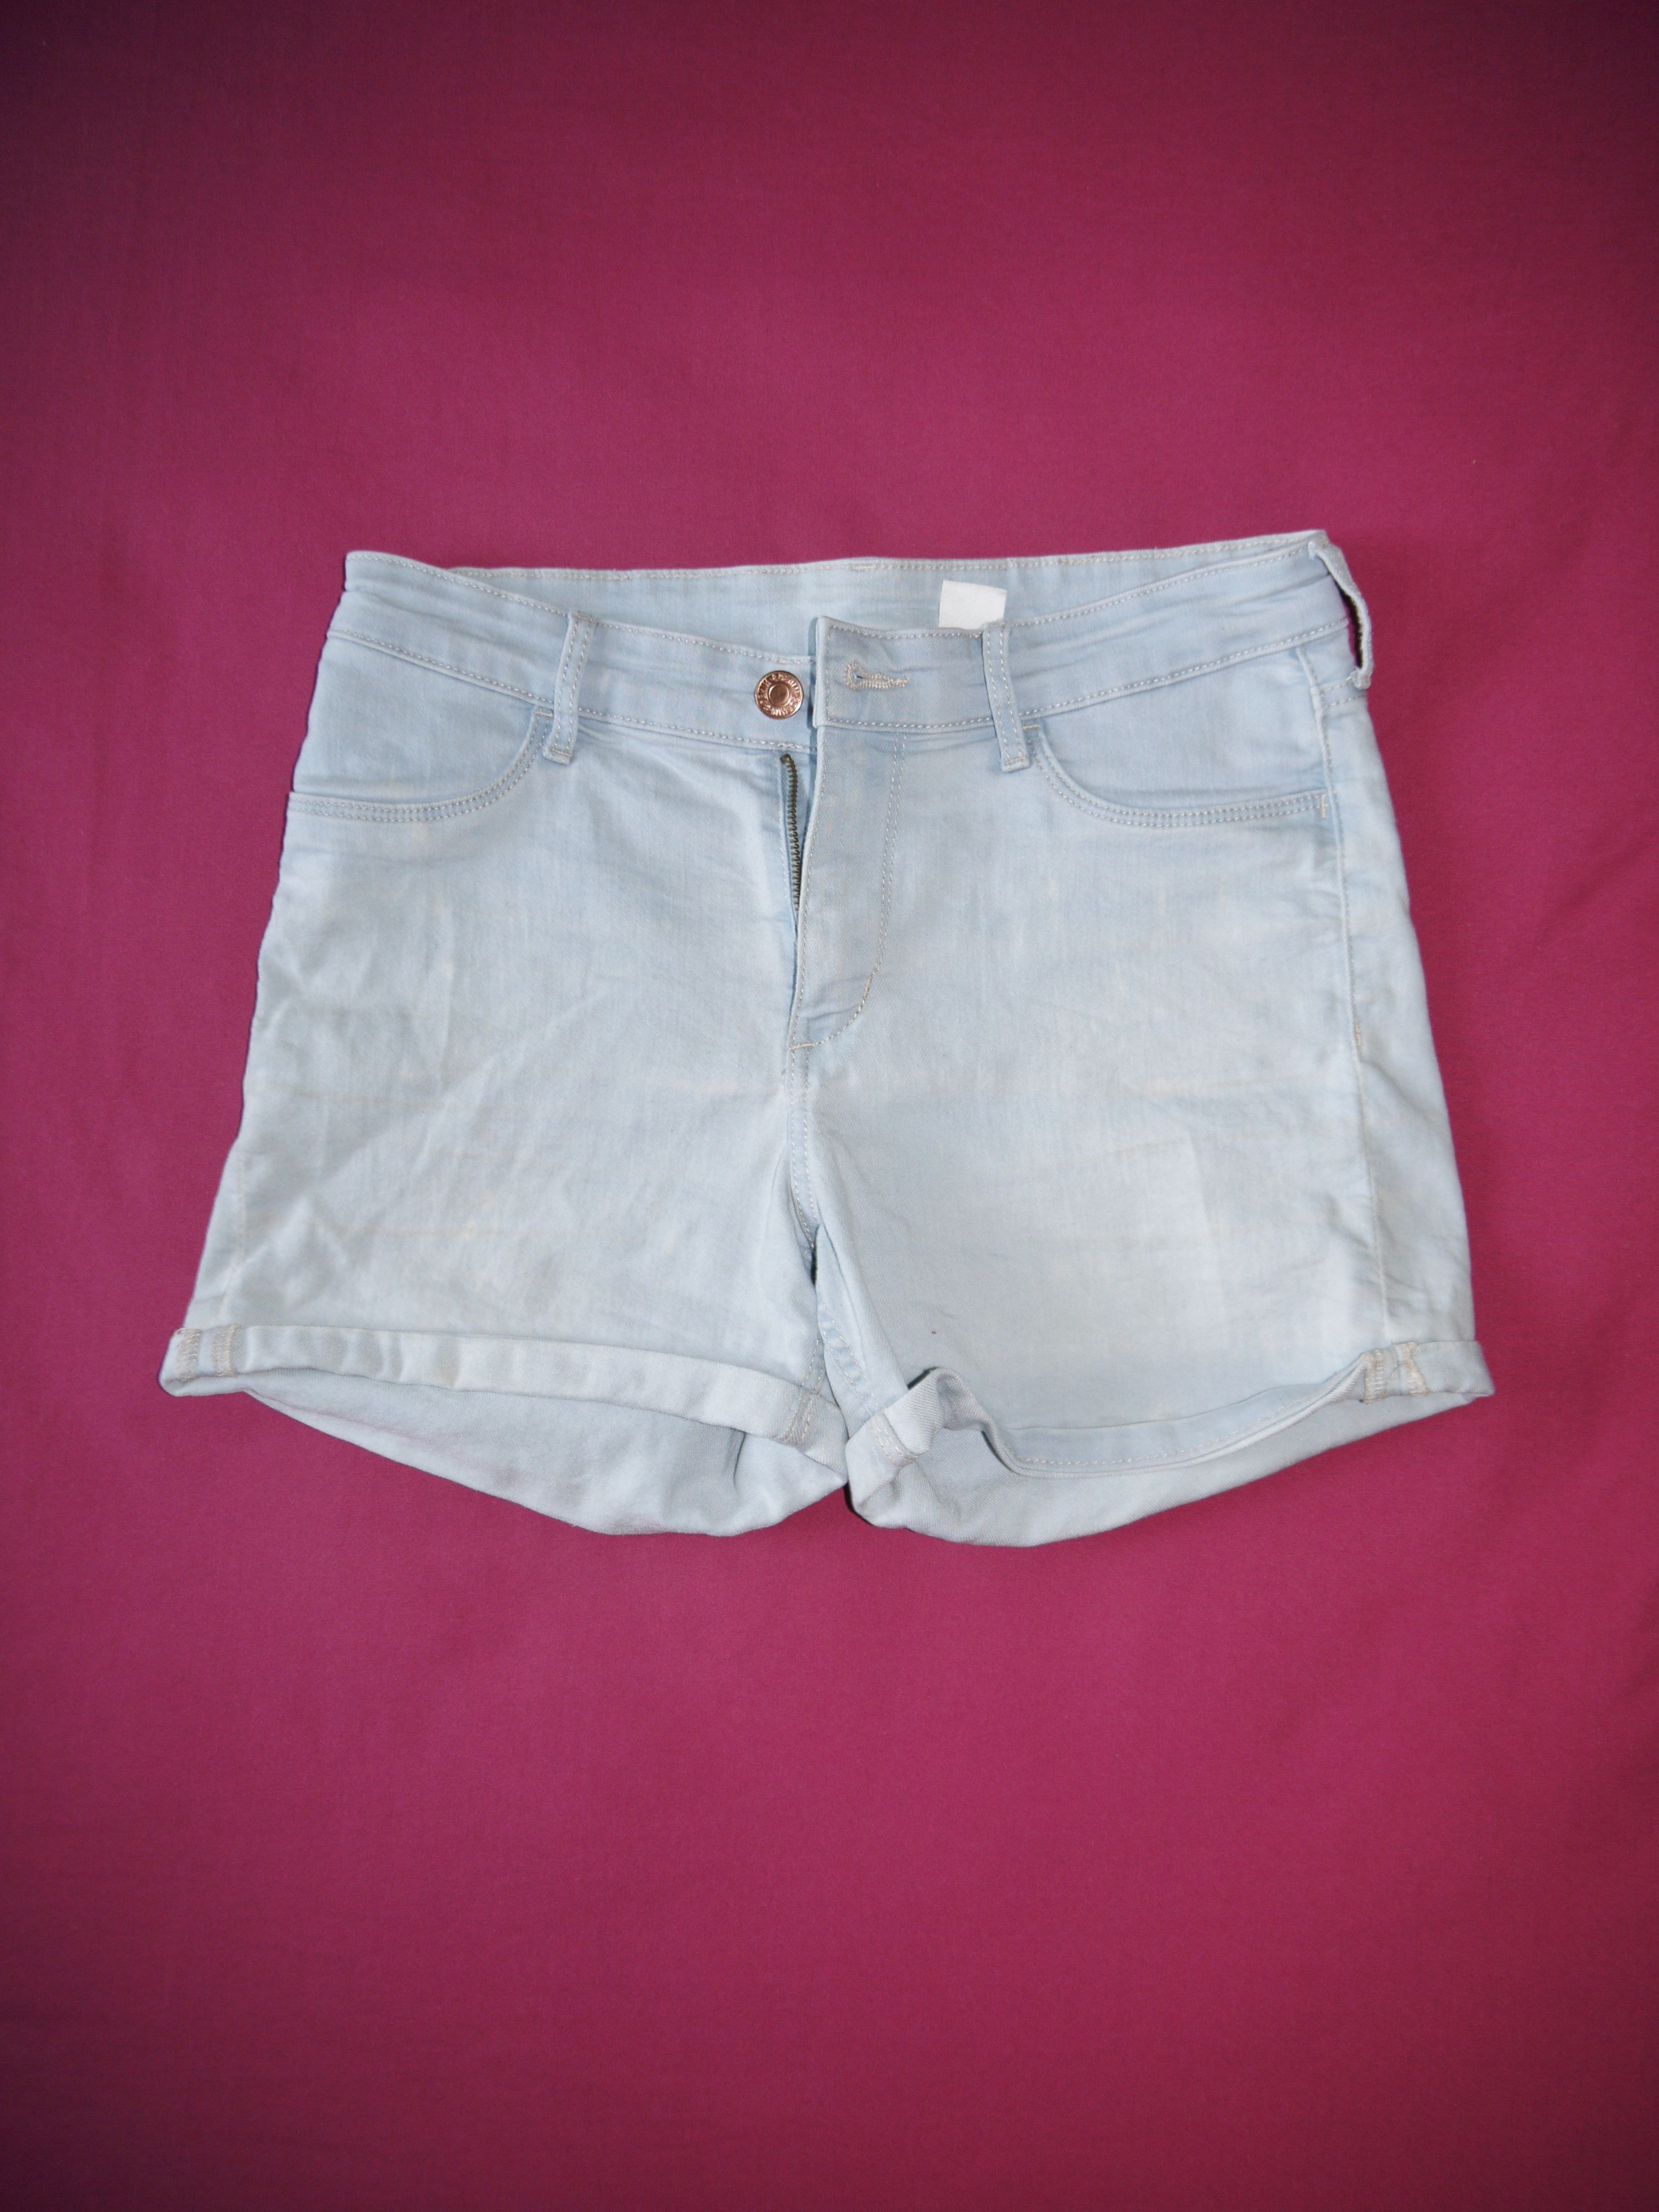clothes: (117, 545, 1530, 1536)
